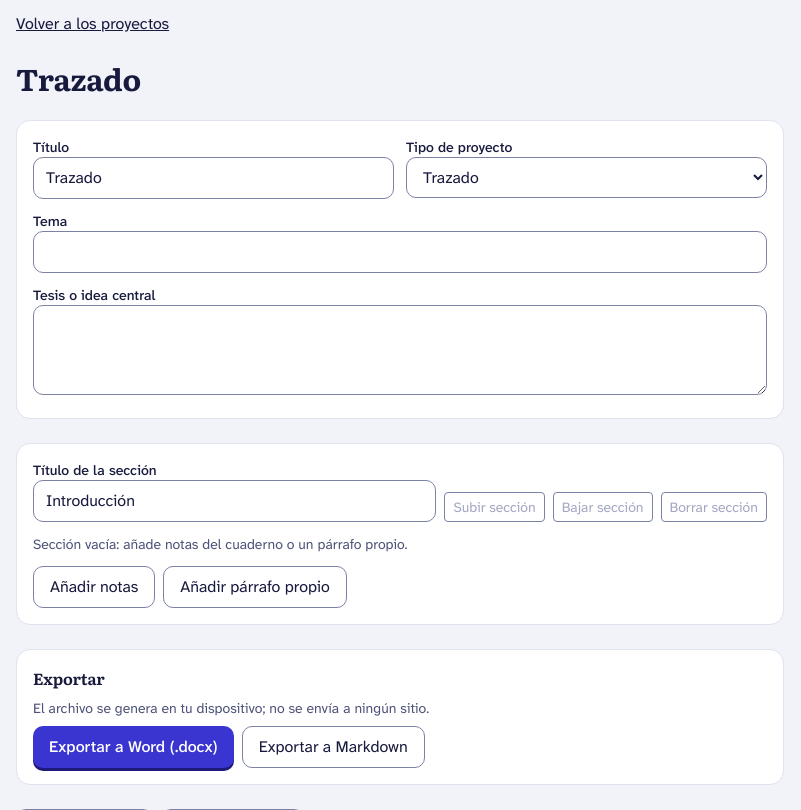
Test case: ProjectEditor › añade sección, notas y párrafo; reordena y mueve entre secciones
Later steps or results of the test are not shown.
Click the button "Añadir notas".
click(94, 587)  # box [33,566,155,608]
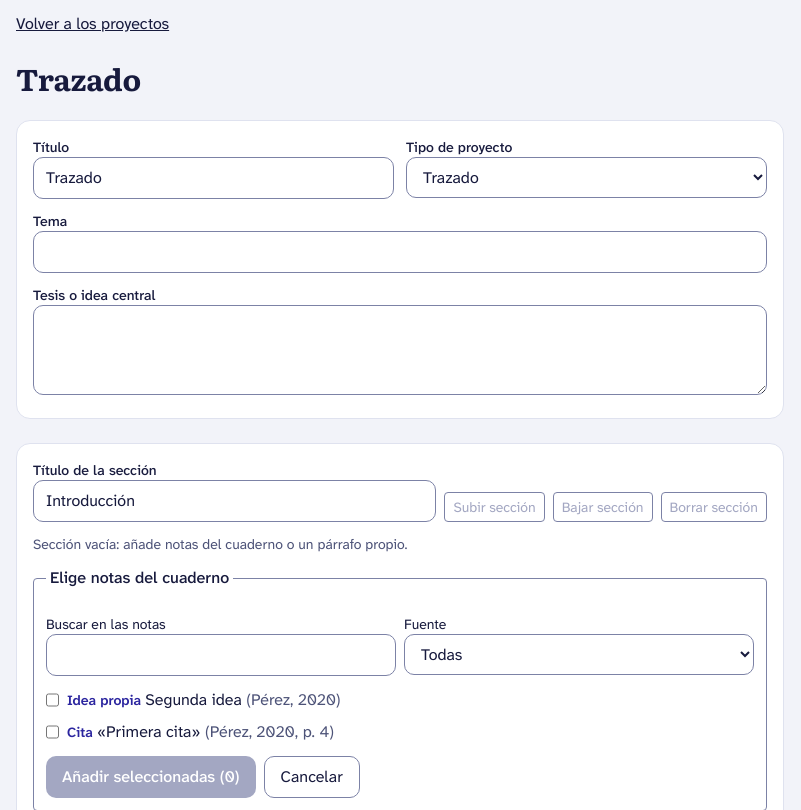
Click the checkbox labelled "Cita «Primera cita» (Pérez, 2020, p. 4)".
click(52, 732)  # box [46,720,59,744]
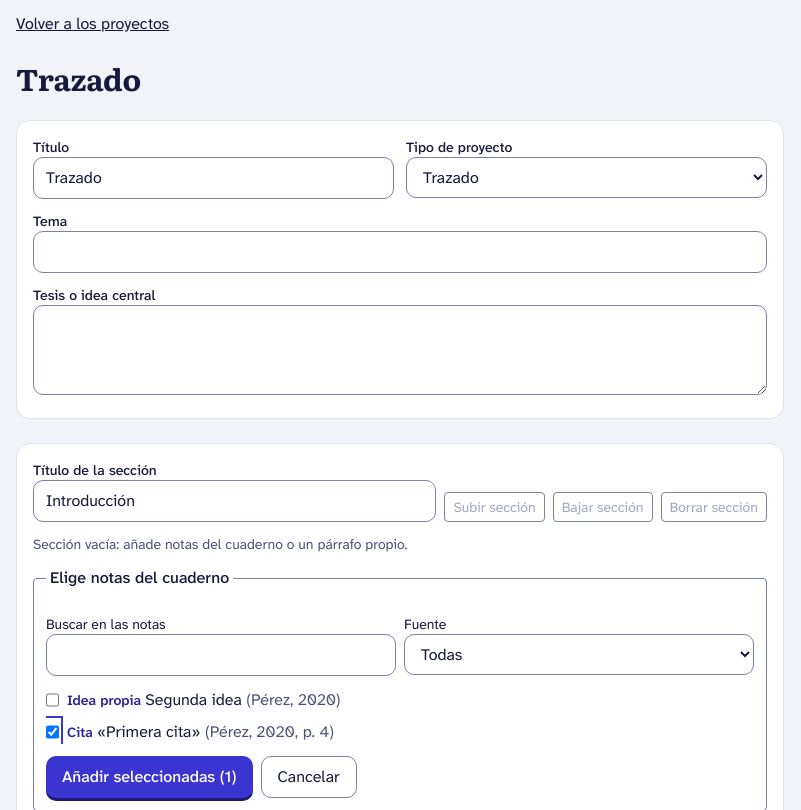
Click the checkbox labelled "Idea propia Segunda idea (Pérez, 2020)".
click(52, 700)  # box [46,688,59,712]
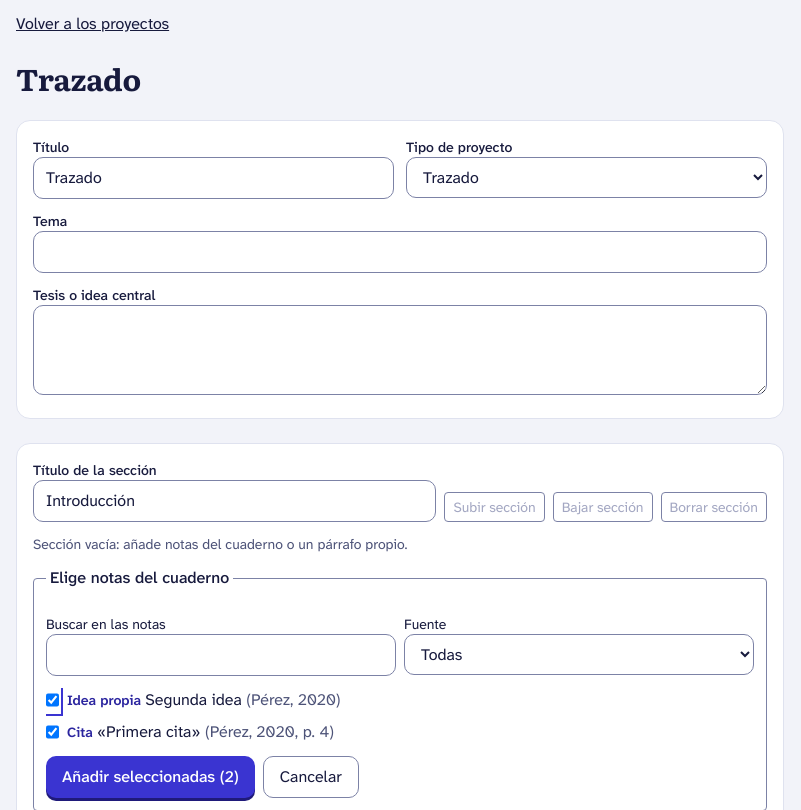
Click the button "Añadir seleccionadas (2)".
click(150, 777)  # box [46,756,255,798]
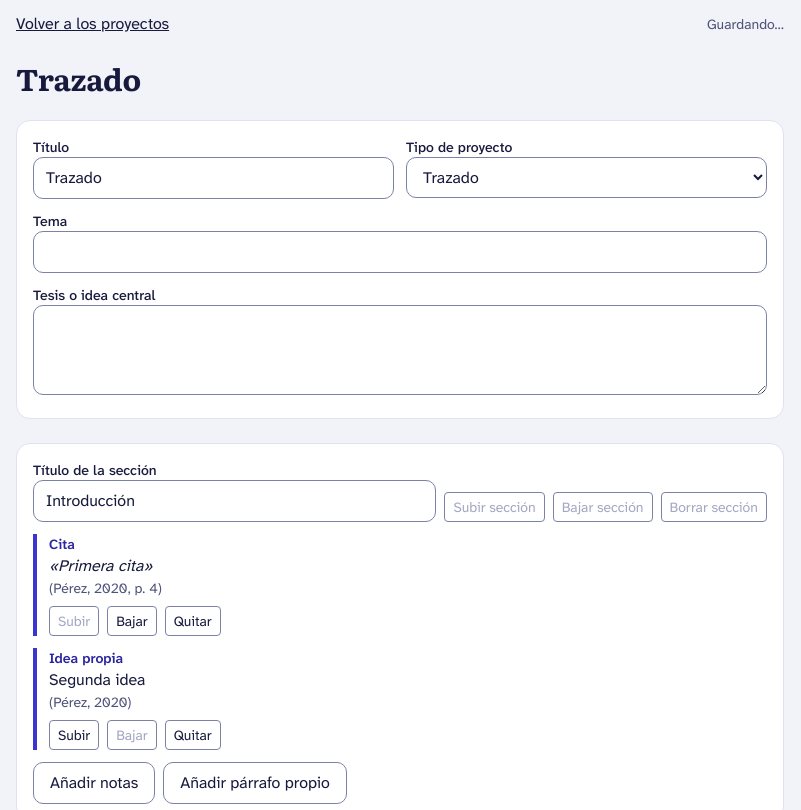
Expected: the text "(Pérez, 2020, p. 4)" is shown, [49,579,162,597]
